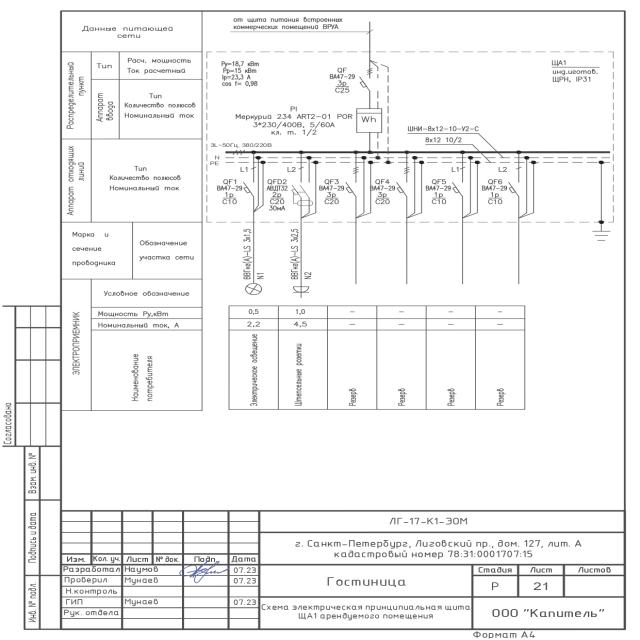-: (234, 105, 353, 136), (551, 58, 602, 84), (266, 185, 290, 211), (370, 185, 398, 207), (424, 185, 452, 207), (480, 185, 508, 206), (318, 185, 346, 206), (217, 184, 243, 206), (329, 74, 356, 95)
QF: (344, 179, 360, 198), (394, 180, 409, 198), (242, 180, 256, 197), (450, 180, 464, 197), (507, 180, 521, 197), (358, 75, 372, 92)
QFD: (291, 180, 314, 207)
WH: (356, 107, 384, 134)
